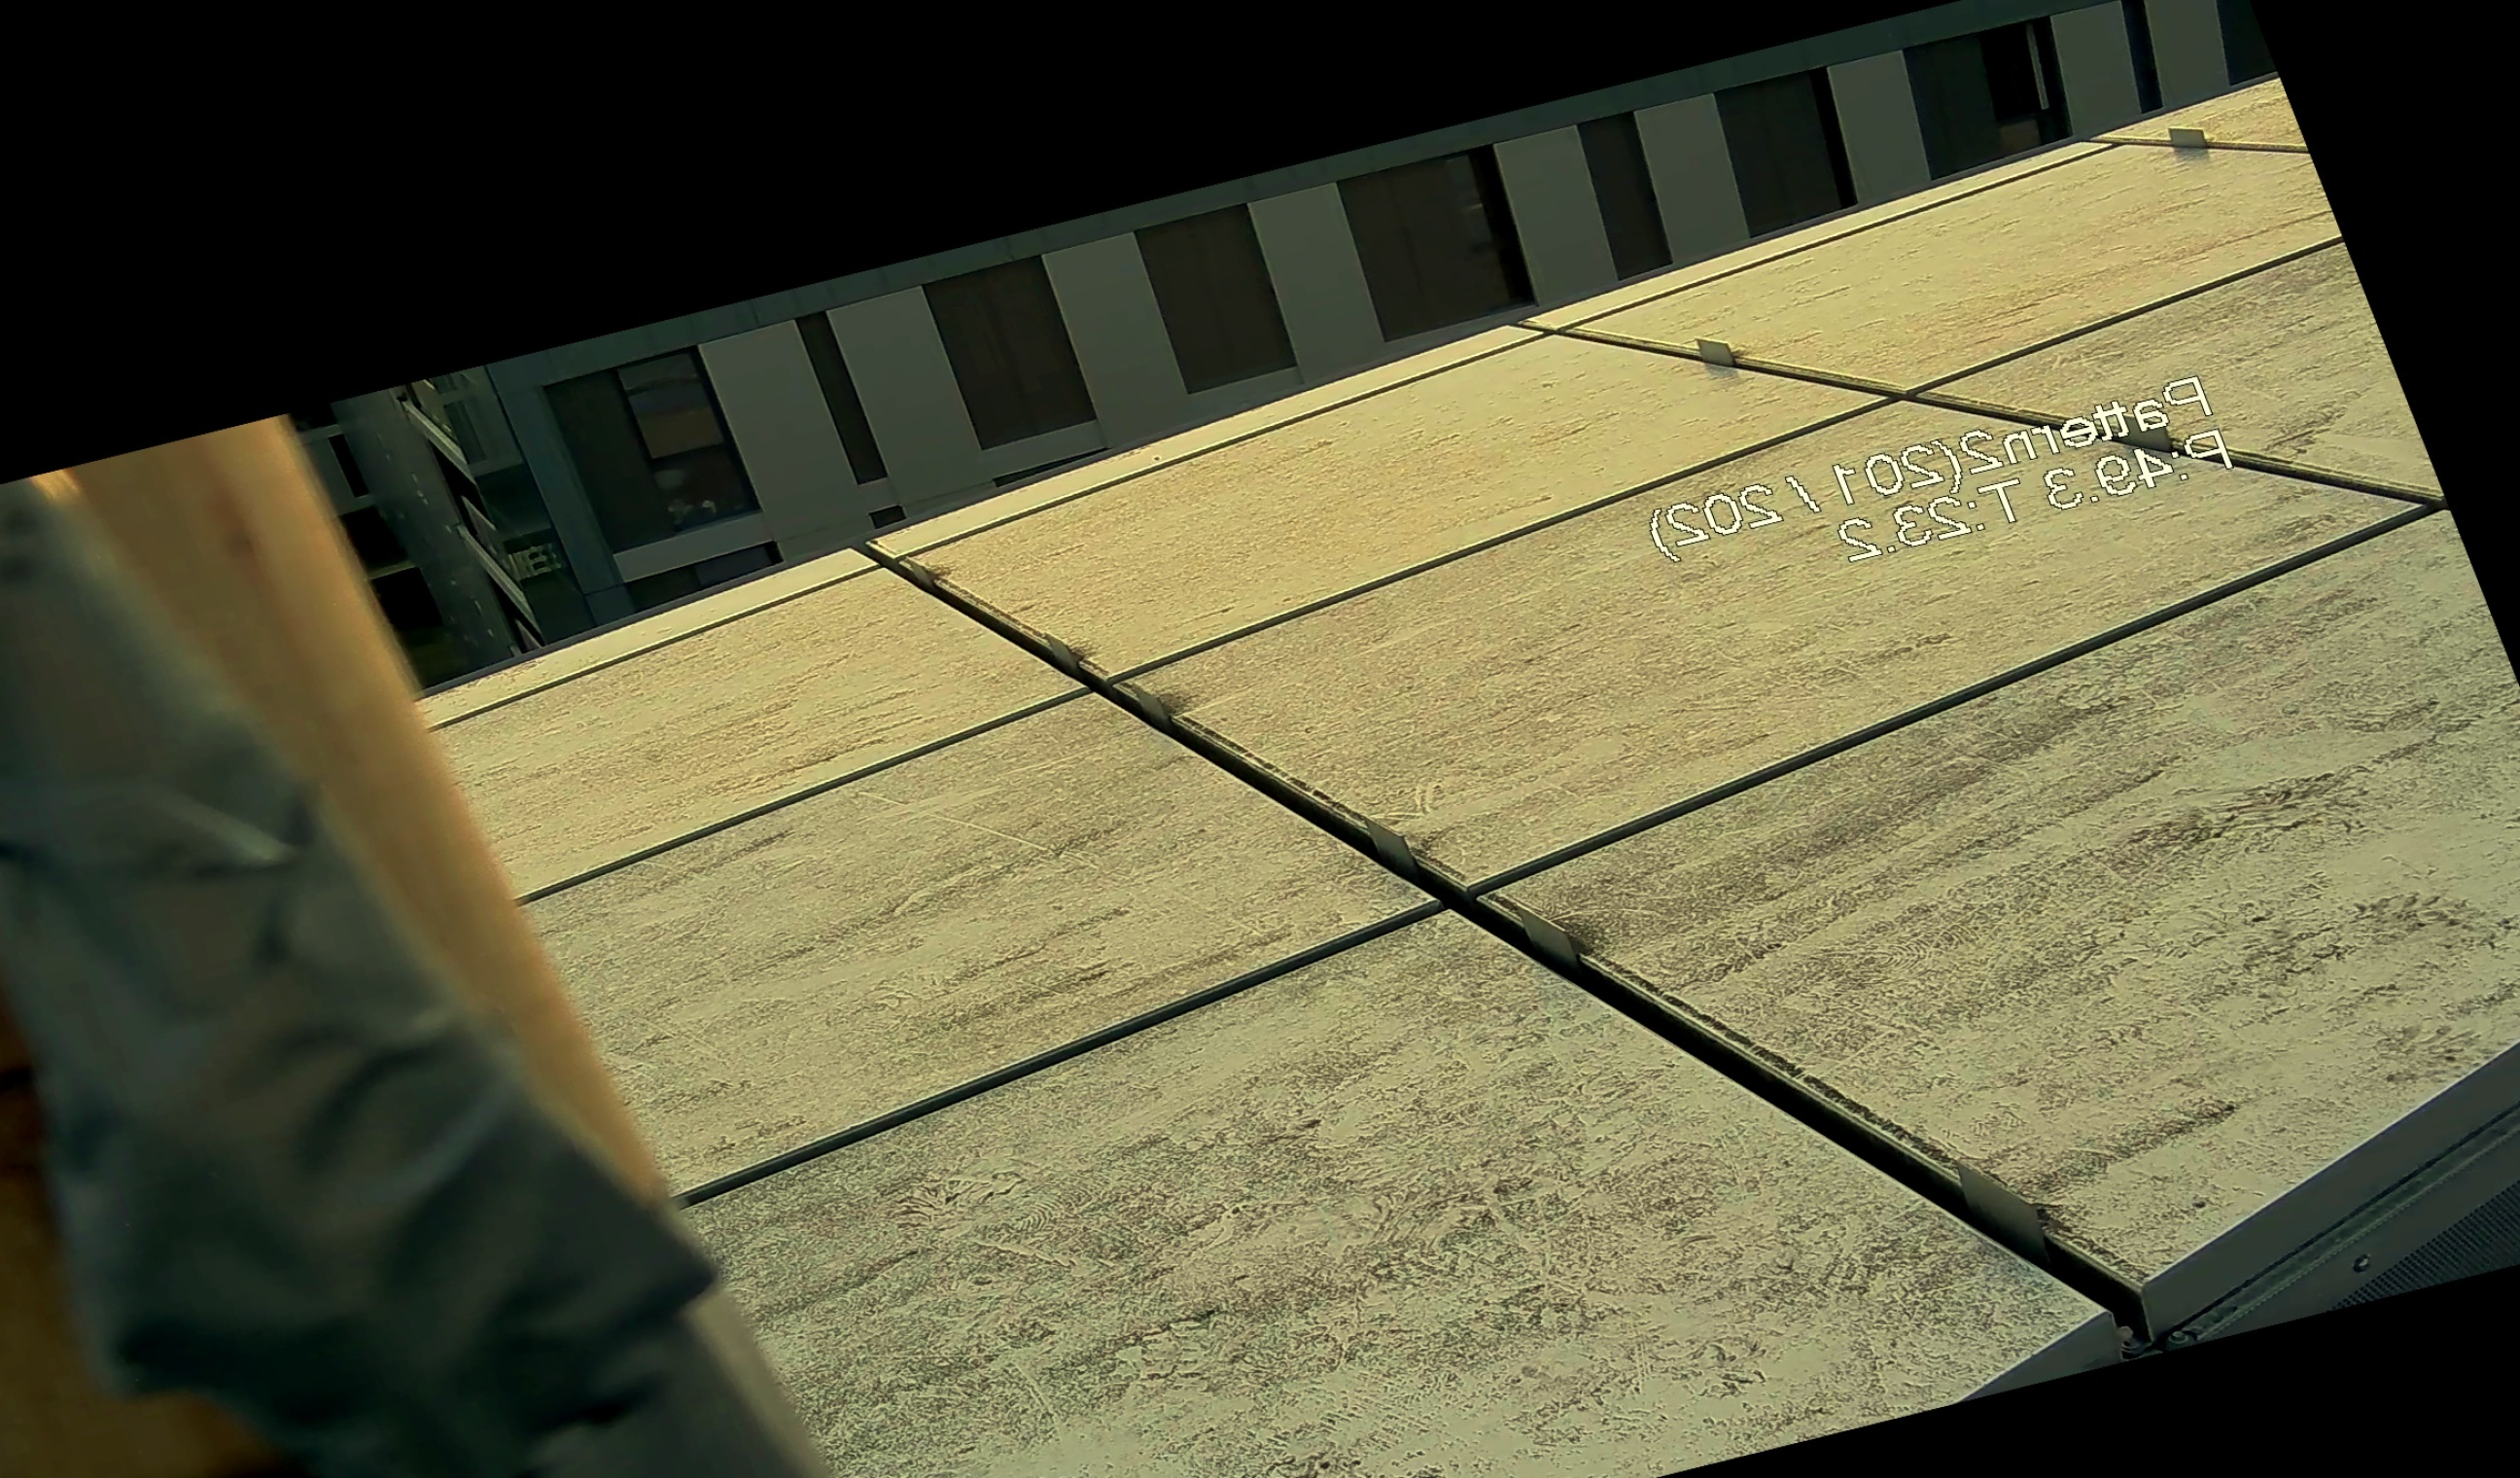Other: (0, 399, 914, 1478)
